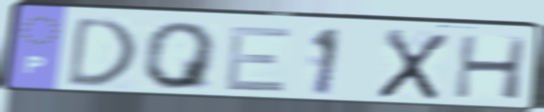1: (308, 26, 344, 98)
D: (63, 14, 140, 90)
E: (221, 24, 296, 95)
H: (451, 32, 532, 102)
Q: (142, 20, 222, 91)
X: (373, 26, 453, 102)
